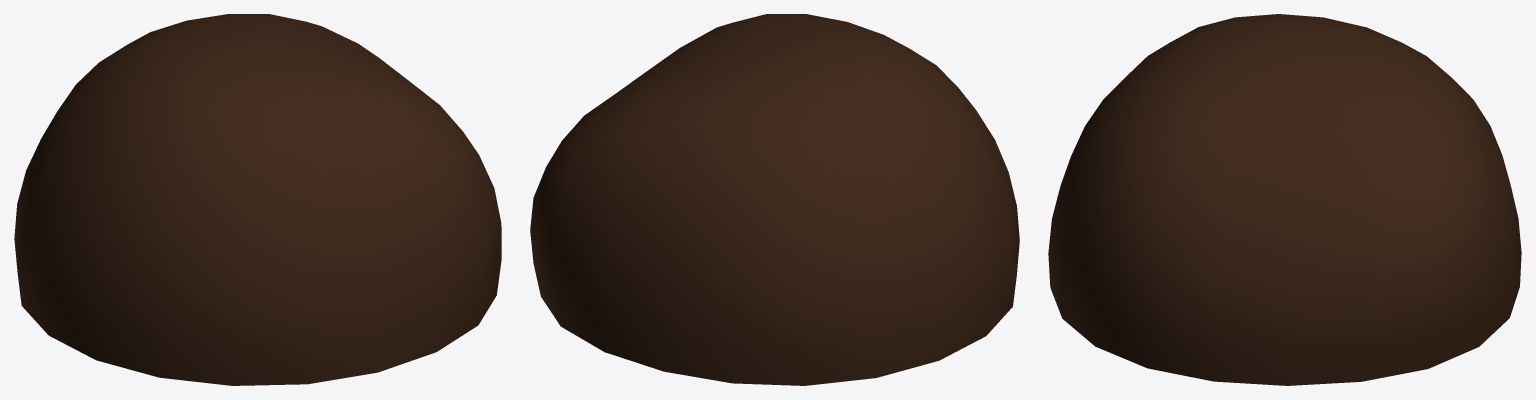
File: sb_pat.fbx
3 renders of one model, left to right at view 1: azimuth 30°, elevation 25°; view 2: azimuth 150°, elevation 25°; view 3: azimuth 270°, elevation 25°, orthographic.
Parts seen in each view (by area): view 1: catherine_bikinibottomCombined1:pSphere11; view 2: catherine_bikinibottomCombined1:pSphere11; view 3: catherine_bikinibottomCombined1:pSphere11.
Boxes of the visible parts, <box> form: catherine_bikinibottomCombined1:pSphere11: <box>14,14,501,385</box>; catherine_bikinibottomCombined1:pSphere11: <box>530,14,1019,385</box>; catherine_bikinibottomCombined1:pSphere11: <box>1048,14,1521,385</box>.
Size of the model in its own units: 94.76 by 51.94 by 94.19.
